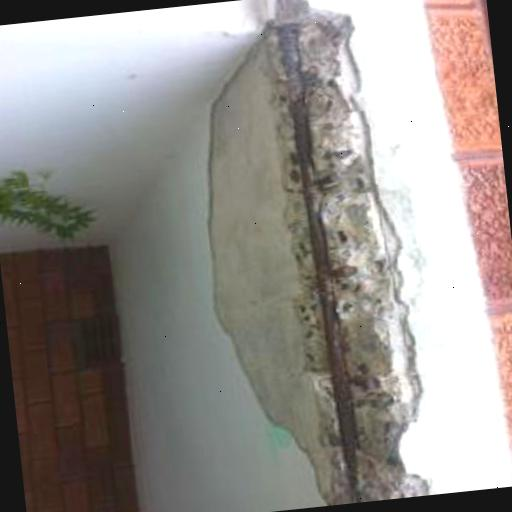spalling: (212, 2, 439, 507)
